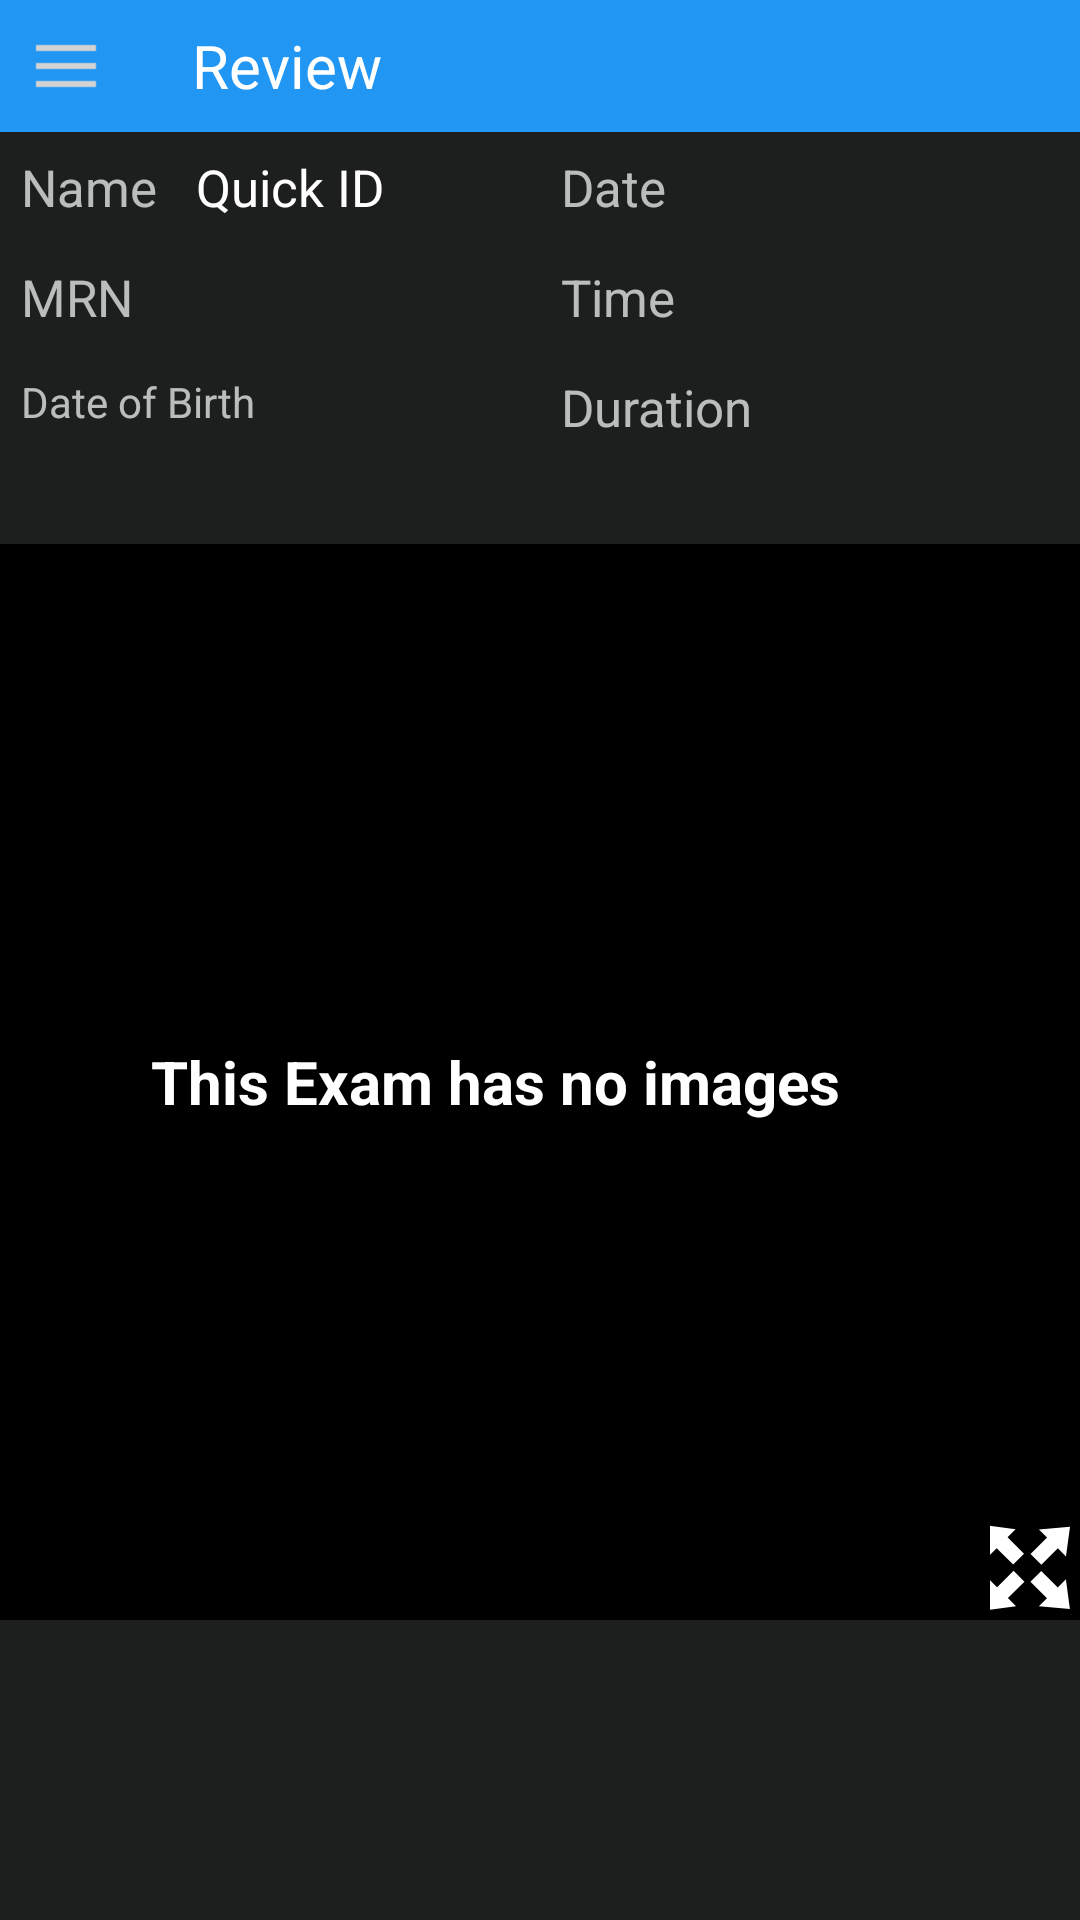

Icons on this 1080w x 1920h Android screen, each with its box as (x1, y1, x2, y2):
menu: (35, 44, 97, 88)
